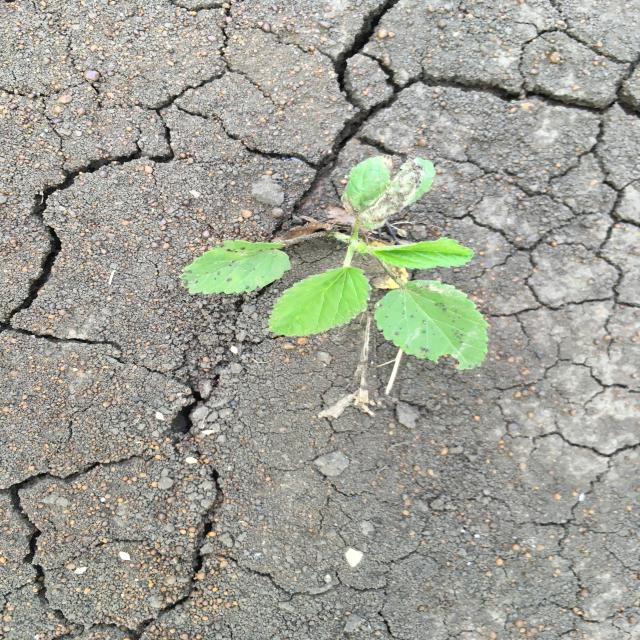PricklySida: (177, 154, 492, 374)
